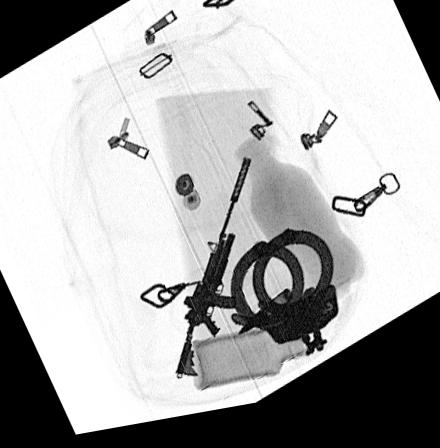Bullet: (236, 298, 294, 344)
Gun: (174, 165, 251, 385)
HandCuffs: (226, 240, 334, 368)
